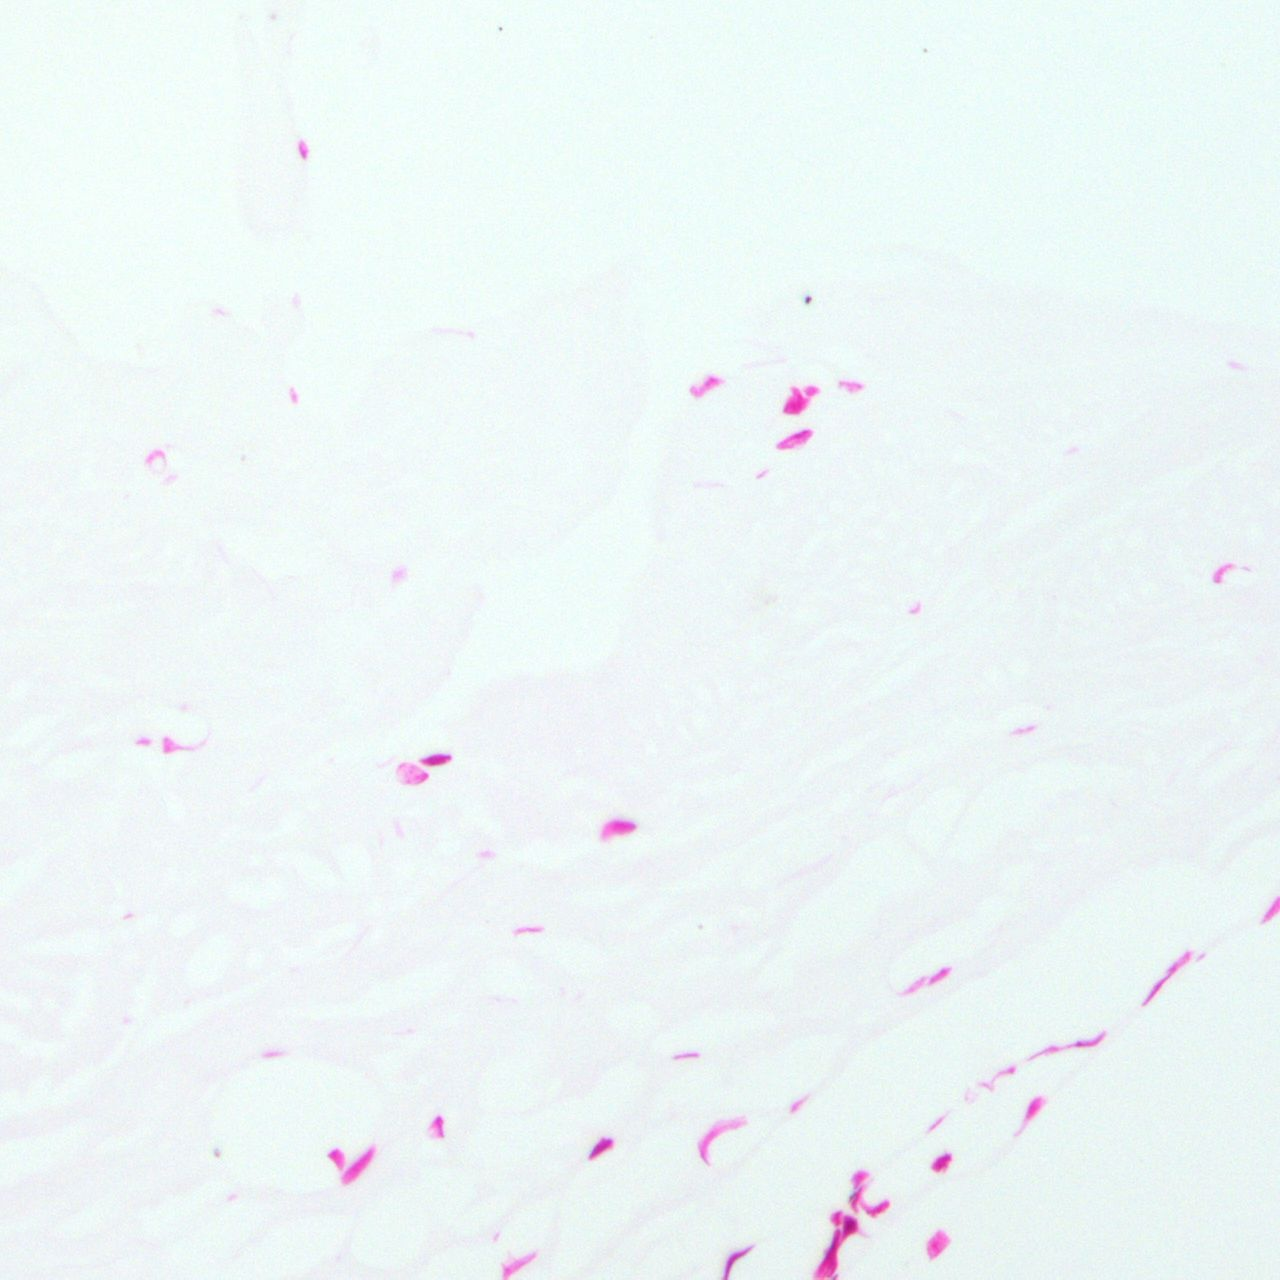dust: (804, 295, 812, 303), (213, 1149, 220, 1157), (698, 922, 704, 929), (498, 26, 502, 30), (923, 48, 926, 51)
nucleus-FG: (339, 1143, 380, 1186), (773, 384, 811, 421), (775, 425, 816, 454), (585, 1133, 614, 1163), (928, 1149, 957, 1176), (925, 962, 954, 987), (602, 819, 636, 836), (1023, 1095, 1043, 1119), (421, 753, 451, 765), (430, 1115, 445, 1138), (297, 139, 309, 159)
